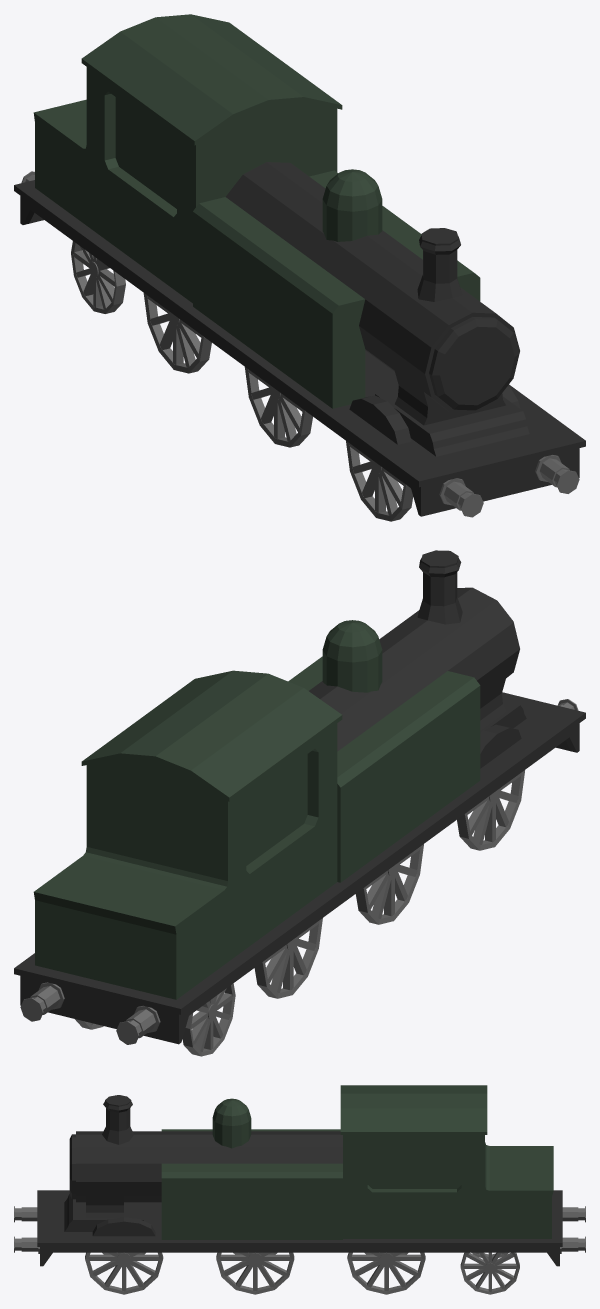
Rendered from Train_Base_Low_Front.fbx.
The picture shows the model from 3 angles, top to bottom: view 1: azimuth 30°, elevation 25°; view 2: azimuth 150°, elevation 25°; view 3: azimuth 270°, elevation 25°; orthographic projection. The views are drawn at different scales.
Visible parts, largest first — view 1: Object050, Object048; view 2: Object050, Object048; view 3: Object050, Object048.
Part boxes in pixels (box(x1,y1,x2,y2)): Object050: box(14, 14, 585, 517); Object048: box(71, 241, 413, 521); Object050: box(14, 550, 585, 1044); Object048: box(75, 770, 524, 1056); Object050: box(14, 1085, 585, 1266); Object048: box(85, 1252, 519, 1294).
Bounding box in the file's own units: 105 × 169 × 482.
